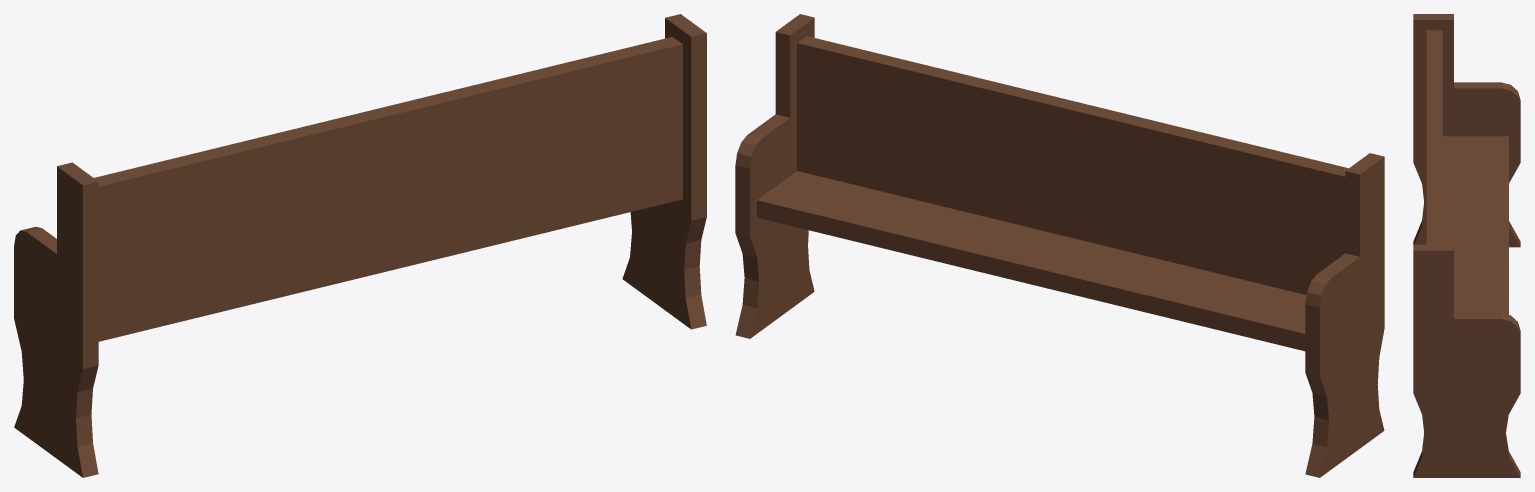
Rendered from Bench.fbx.
The picture shows the model from 3 angles, left to right: view 1: azimuth 30°, elevation 25°; view 2: azimuth 150°, elevation 25°; view 3: azimuth 270°, elevation 25°; orthographic projection. The views are drawn at different scales.
Visible parts, largest first — view 1: Bench; view 2: Bench; view 3: Bench.
Boxes of the visible parts, x1,y1,x2,y2 form: Bench: (14,14,706,477); Bench: (735,14,1384,477); Bench: (1413,14,1520,477).
Bounding box in the file's own units: 263 × 118 × 50.38.
